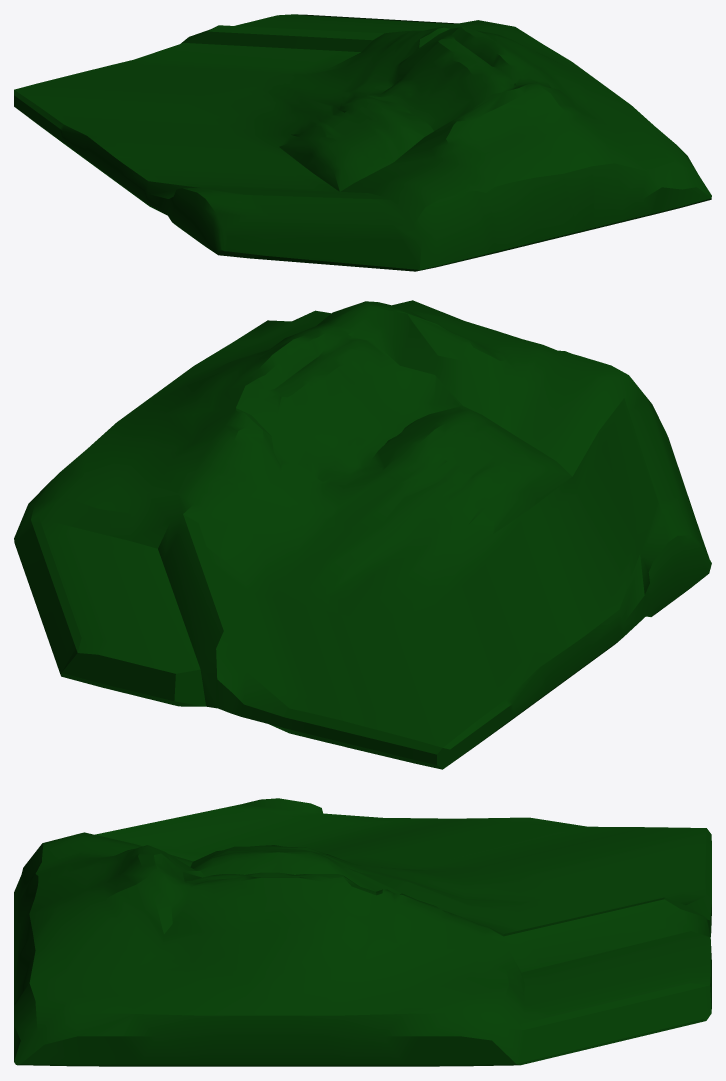
Rendered from mountain2.obj.
3 views of the same model, one above another, from view 1: azimuth 30°, elevation 25°; view 2: azimuth 150°, elevation 25°; view 3: azimuth 270°, elevation 25° (orthographic). The views are drawn at different scales.
Parts seen in each view (by area): view 1: Cube; view 2: Cube; view 3: Cube.
Part boxes in pixels (<box>): Cube: <box>14,14,711,271</box>; Cube: <box>14,300,711,769</box>; Cube: <box>14,798,711,1066</box>.
Bounding box in the file's own units: 54.86 × 15.73 × 66.88.
